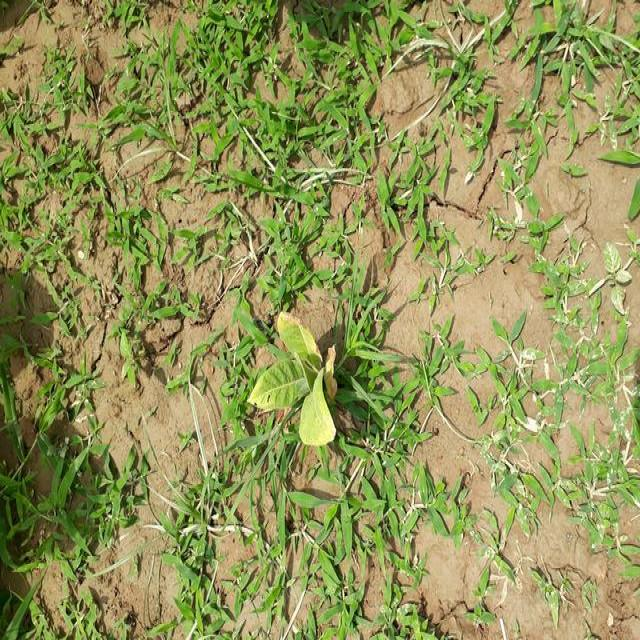crop: (252, 300, 349, 457)
